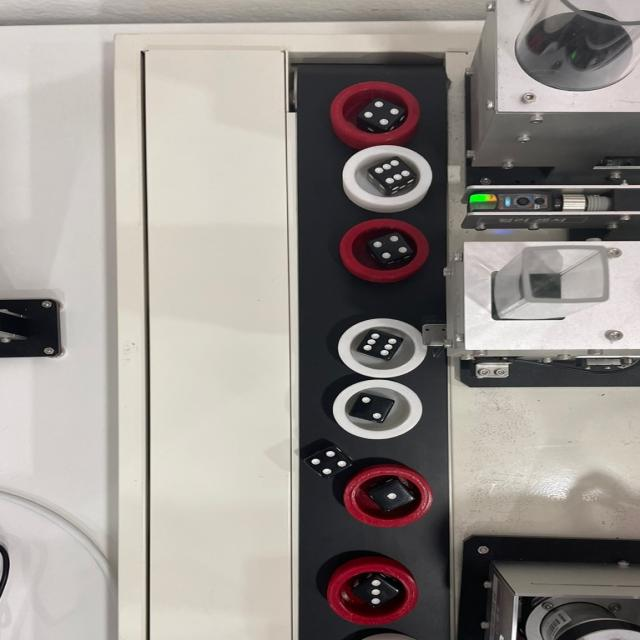DICE1: (382, 484, 404, 506)
DICE2: (354, 393, 390, 422)
DICE3: (357, 576, 386, 610)
DICE4: (359, 98, 404, 128), (310, 448, 351, 476), (370, 233, 410, 261)
DICE6: (372, 156, 419, 189), (364, 328, 399, 358)
RedChip: (329, 80, 426, 146), (340, 218, 432, 280), (344, 469, 431, 528), (329, 565, 416, 623)
WhiteChip: (341, 144, 435, 210), (338, 317, 428, 377), (332, 380, 424, 438)
